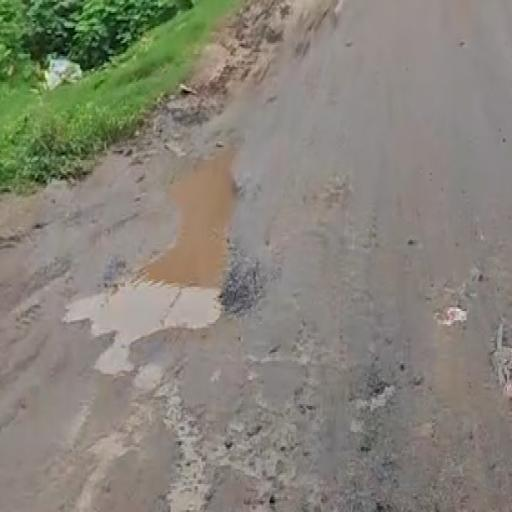pothole: (50, 116, 316, 405)
